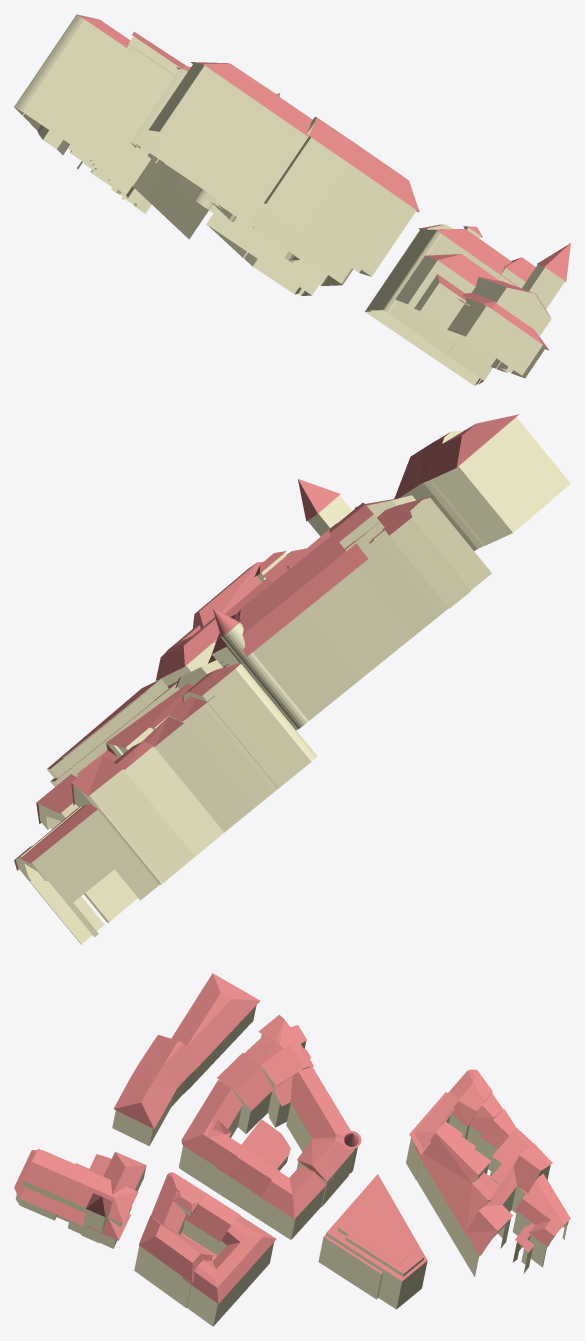
File: tile_062.glb
3 views of the same model, one above another, from view 1: azimuth 30°, elevation 25°; view 2: azimuth 150°, elevation 25°; view 3: azimuth 270°, elevation 25° (orthographic). The views are drawn at different scales.
Parts seen in each view (by area): view 1: Batched_Building_ID_FC8B2201-5ED1-4636-A642-C1AA422D2A83, Batched_Building_ID_DC74CDA8-D5AB-4195-9401-353FA266B13B; view 2: Batched_Building_ID_FC8B2201-5ED1-4636-A642-C1AA422D2A83, Batched_Building_ID_DC74CDA8-D5AB-4195-9401-353FA266B13B; view 3: Batched_Building_ID_DC74CDA8-D5AB-4195-9401-353FA266B13B, Batched_Building_ID_FC8B2201-5ED1-4636-A642-C1AA422D2A83.
Boxes of the visible parts, x1,y1,x2,y2 form: Batched_Building_ID_FC8B2201-5ED1-4636-A642-C1AA422D2A83: (14,14,564,385); Batched_Building_ID_DC74CDA8-D5AB-4195-9401-353FA266B13B: (76,14,570,350); Batched_Building_ID_FC8B2201-5ED1-4636-A642-C1AA422D2A83: (16,417,570,944); Batched_Building_ID_DC74CDA8-D5AB-4195-9401-353FA266B13B: (14,414,518,870); Batched_Building_ID_DC74CDA8-D5AB-4195-9401-353FA266B13B: (14,973,570,1303); Batched_Building_ID_FC8B2201-5ED1-4636-A642-C1AA422D2A83: (15,1005,568,1326).
Bounding box in the file's own units: 106 × 104 × 200.
